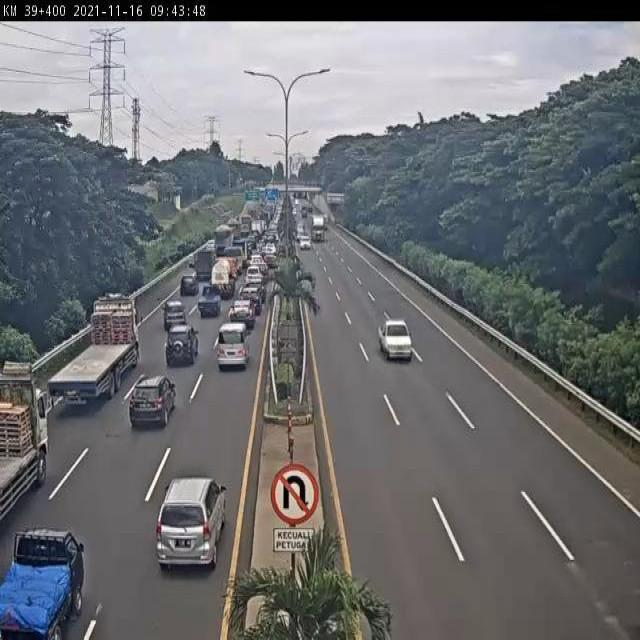car: (0, 526, 86, 640), (157, 477, 228, 571), (127, 378, 175, 433), (218, 320, 253, 371), (377, 320, 413, 361), (163, 328, 195, 371), (198, 287, 222, 320), (230, 300, 254, 333), (163, 303, 187, 329), (240, 287, 262, 313), (180, 271, 202, 296), (248, 277, 268, 299), (246, 265, 264, 284), (248, 254, 264, 266), (300, 237, 308, 248)
small truck: (187, 248, 214, 287), (225, 246, 244, 274)
truck-l-: (40, 300, 136, 408), (0, 361, 49, 524), (309, 212, 325, 241)
truck-m-: (211, 260, 234, 300), (210, 226, 232, 262)
